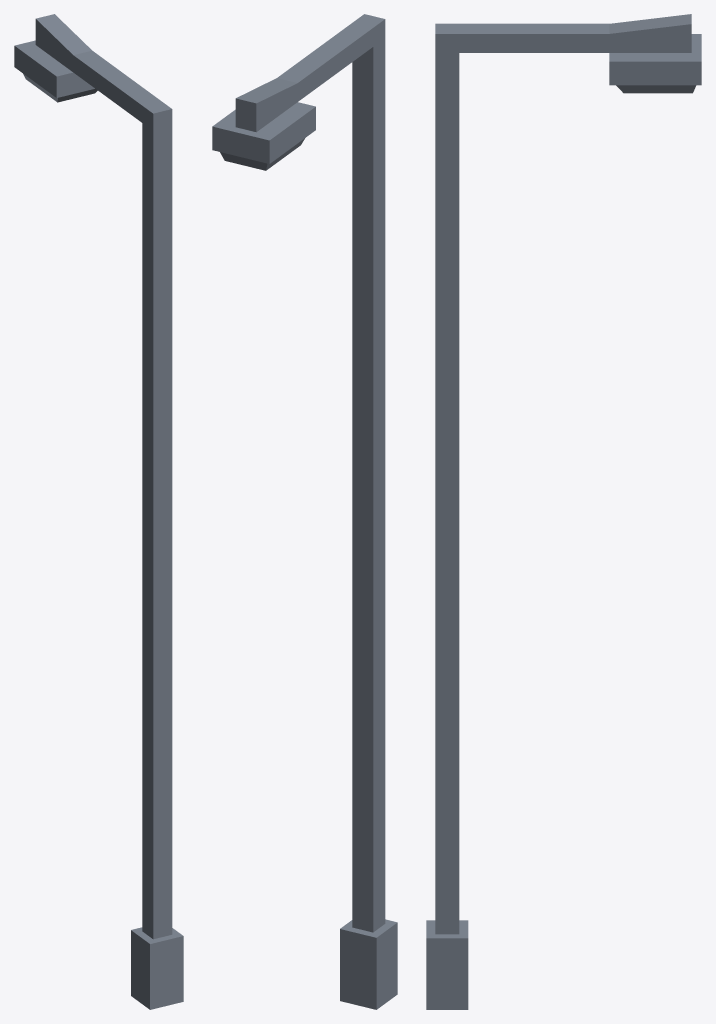
The model's file is Road_Objects_Street_Lamp.fbx.
3 renders of one model, left to right at view 1: azimuth 30°, elevation 25°; view 2: azimuth 150°, elevation 25°; view 3: azimuth 270°, elevation 25°, orthographic. The views are drawn at different scales.
Parts seen in each view (by area): view 1: Road_Objects_Street_Lamp; view 2: Road_Objects_Street_Lamp; view 3: Road_Objects_Street_Lamp.
Boxes of the visible parts, x1,y1,x2,y2 form: Road_Objects_Street_Lamp: [14, 14, 183, 1009]; Road_Objects_Street_Lamp: [212, 14, 397, 1009]; Road_Objects_Street_Lamp: [426, 14, 701, 1009].
Bounding box in the file's own units: 28.72 × 473 × 120.
